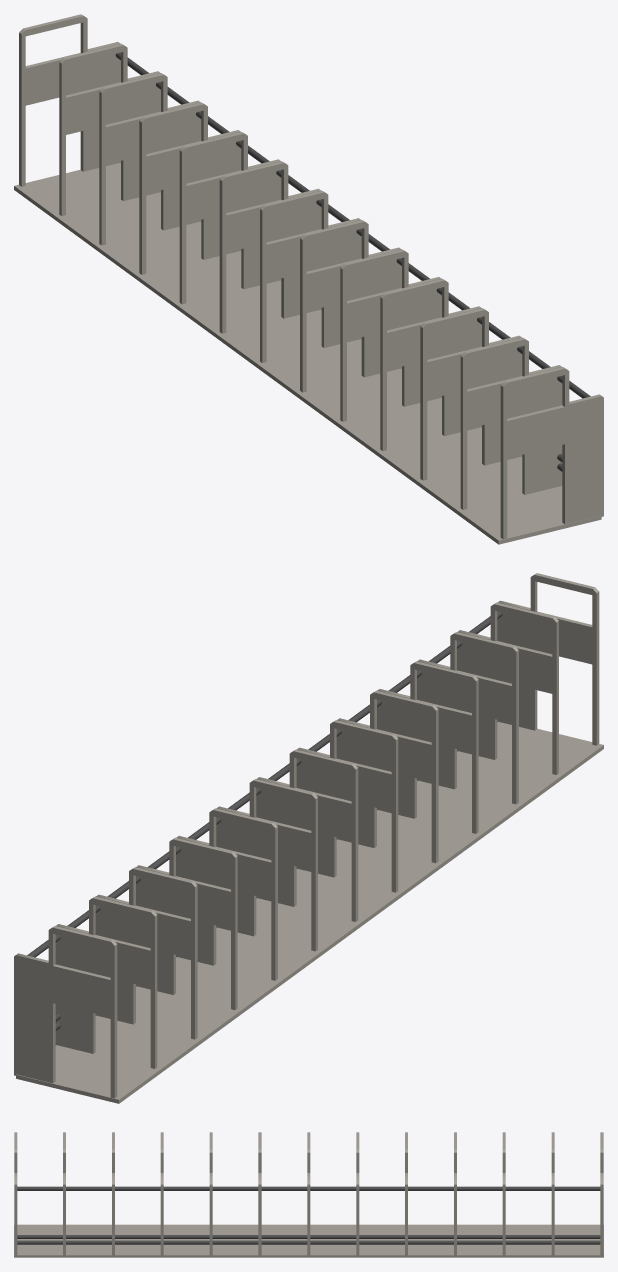
Rendered from industrial_rack.fbx.
3 renders of one model, top to bottom at view 1: azimuth 30°, elevation 25°; view 2: azimuth 150°, elevation 25°; view 3: azimuth 270°, elevation 25°, orthographic. The views are drawn at different scales.
Visible parts, largest first — view 1: industrial_rack; view 2: industrial_rack; view 3: industrial_rack.
Part boxes in pixels (box(x1,y1,x2,y2)): industrial_rack: box(14, 14, 603, 544); industrial_rack: box(14, 573, 603, 1103); industrial_rack: box(14, 1132, 603, 1257).
Size of the model in its own units: 123 by 178 by 978.
